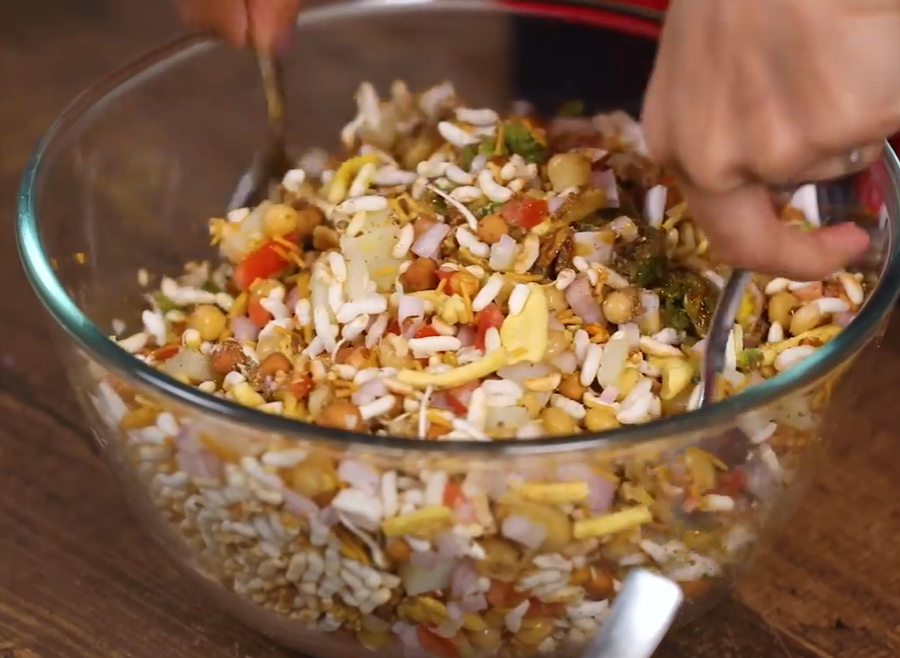chatpate: (149, 104, 790, 397)
